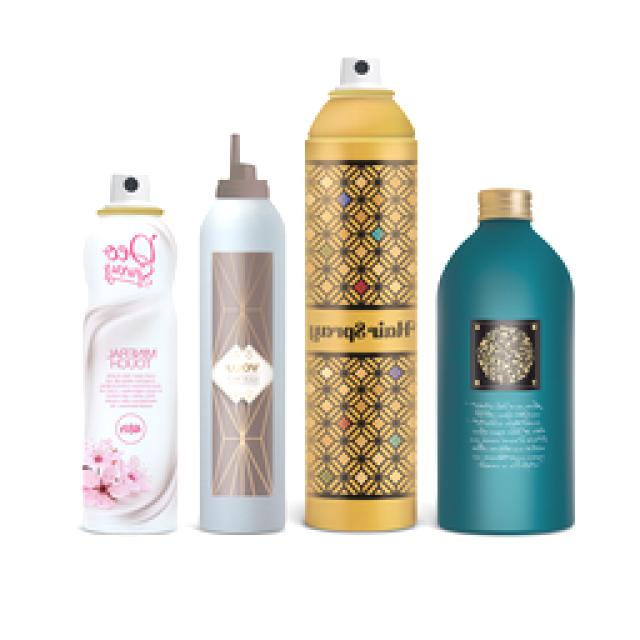zat_kimia: (304, 65, 416, 530), (438, 193, 573, 538), (83, 180, 181, 536), (201, 138, 287, 533)
